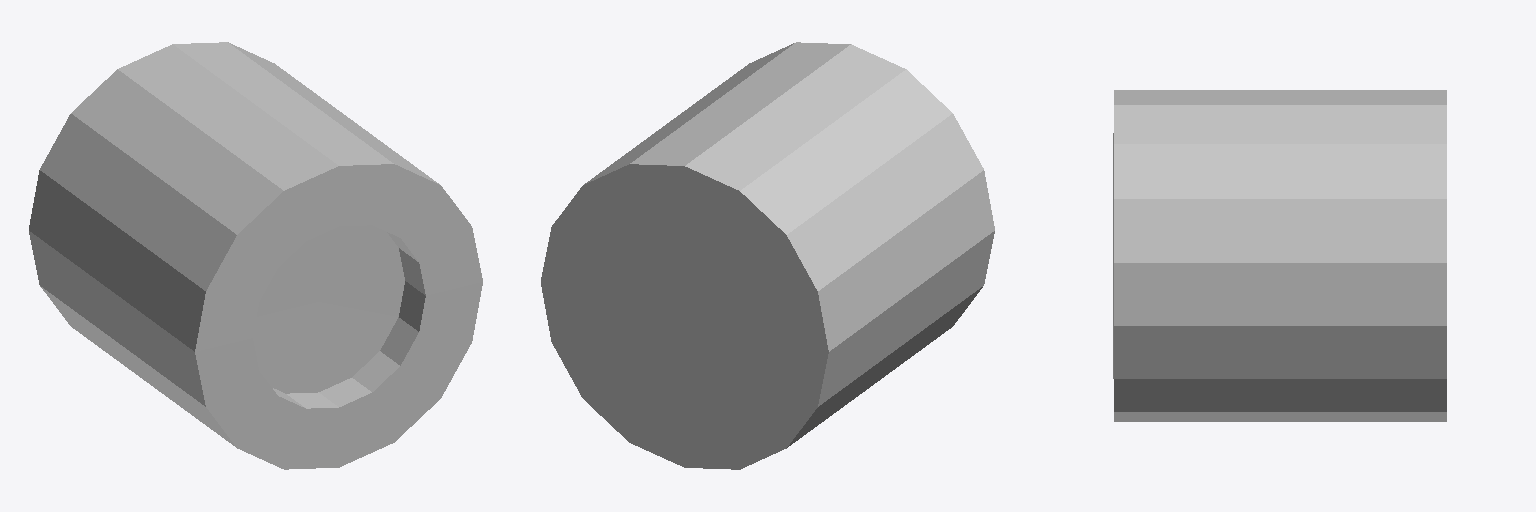
3 views of the same model, side by side, from view 1: azimuth 30°, elevation 25°; view 2: azimuth 150°, elevation 25°; view 3: azimuth 270°, elevation 25° (orthographic).
Visible parts, largest first — view 1: Cube_Cube_None_QuartoPieces.png; view 2: Cube_Cube_None_QuartoPieces.png; view 3: Cube_Cube_None_QuartoPieces.png.
Boxes of the visible parts, <box> form: Cube_Cube_None_QuartoPieces.png: <box>29,42,482,469</box>; Cube_Cube_None_QuartoPieces.png: <box>541,42,994,469</box>; Cube_Cube_None_QuartoPieces.png: <box>1113,90,1446,421</box>.
Size of the model in its own units: 2 by 2 by 2.